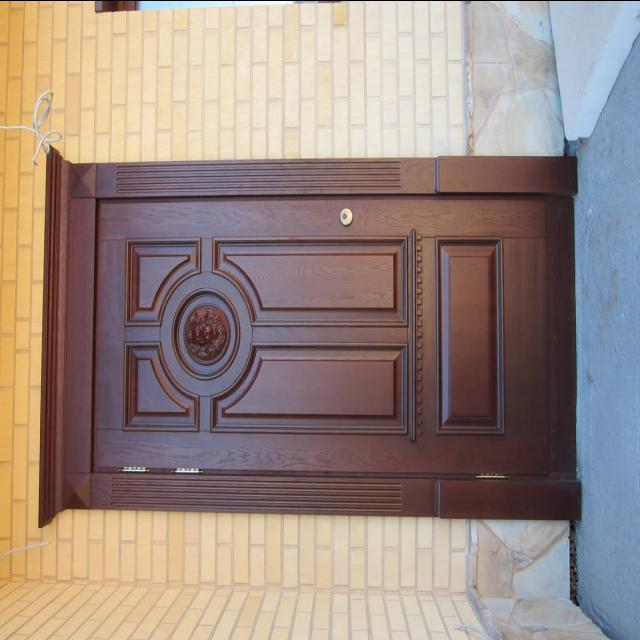close: (88, 187, 569, 474)
